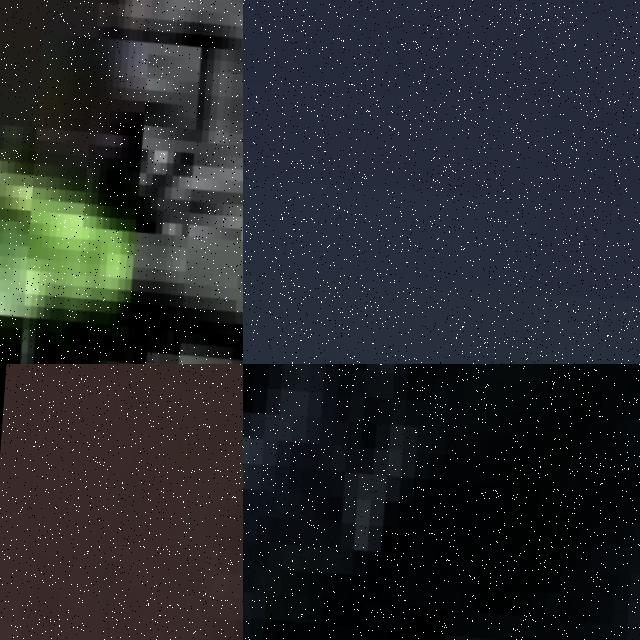drone: (243, 364, 640, 640), (0, 0, 243, 364), (0, 364, 243, 640)
